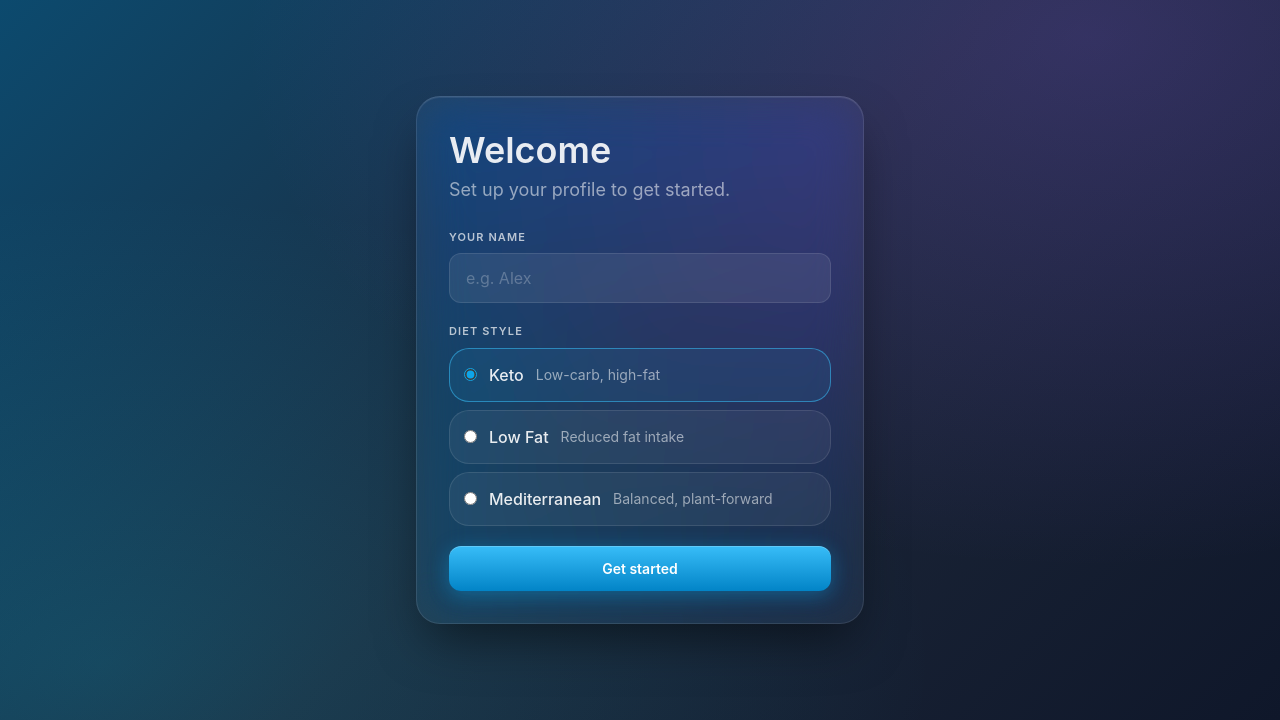
Scenario: OnboardingPage › handleSubmit_ShouldShowError_WhenNameIsEmpty
This screenshot has width=1280, height=720.
Click the button "Get started" at (640, 568), box [449, 546, 831, 591]
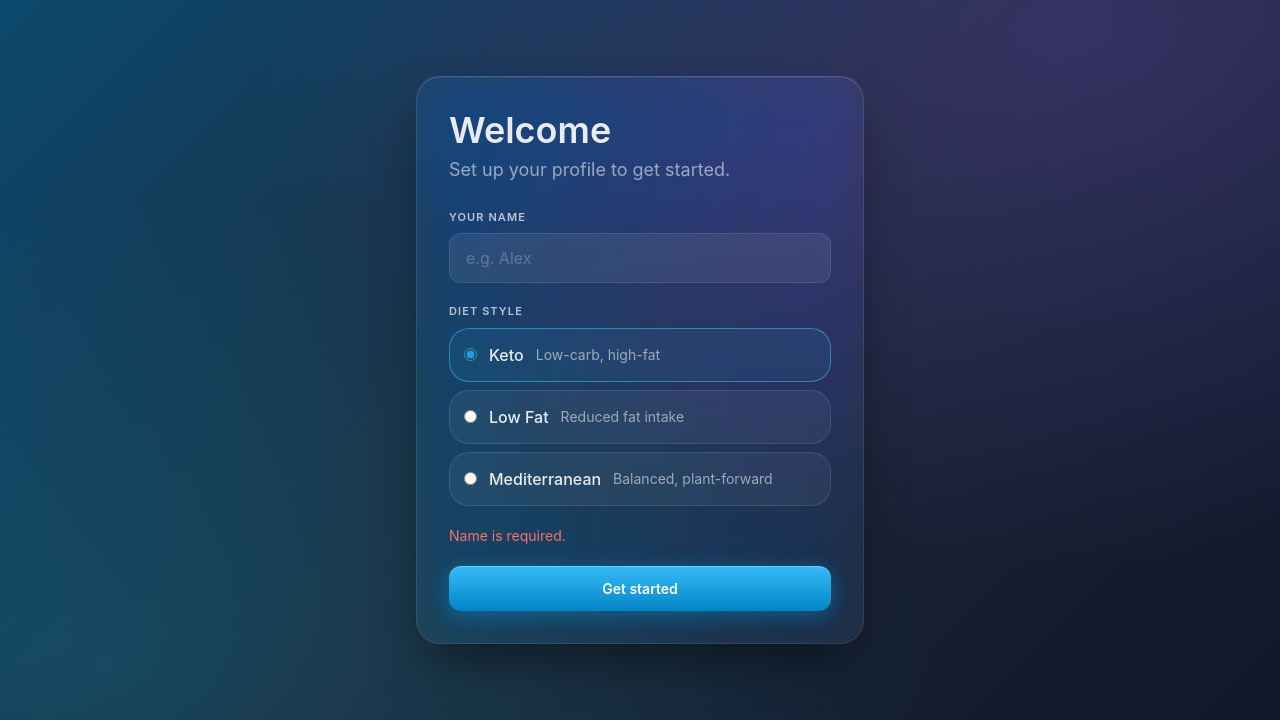
Expected: the text "Name is required." is shown, [449, 527, 566, 544]
